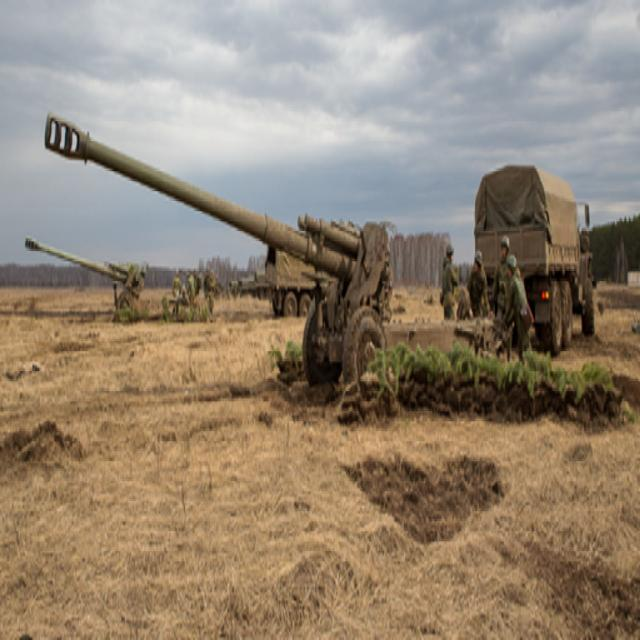ART: (44, 112, 502, 396), (22, 234, 212, 326)
TRUCK: (471, 158, 599, 360), (262, 238, 318, 318)
